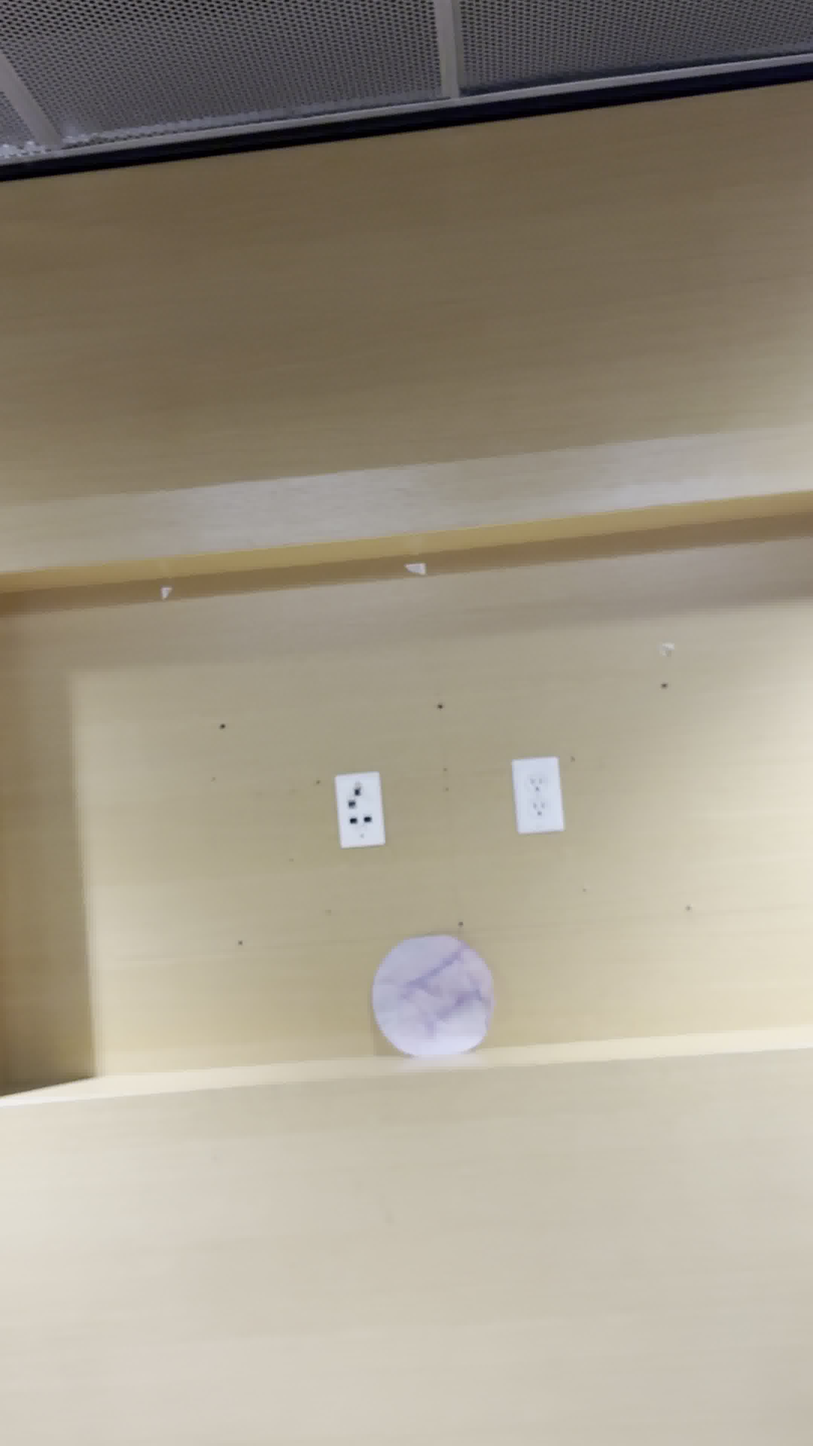Target: (371, 934, 495, 1062)
